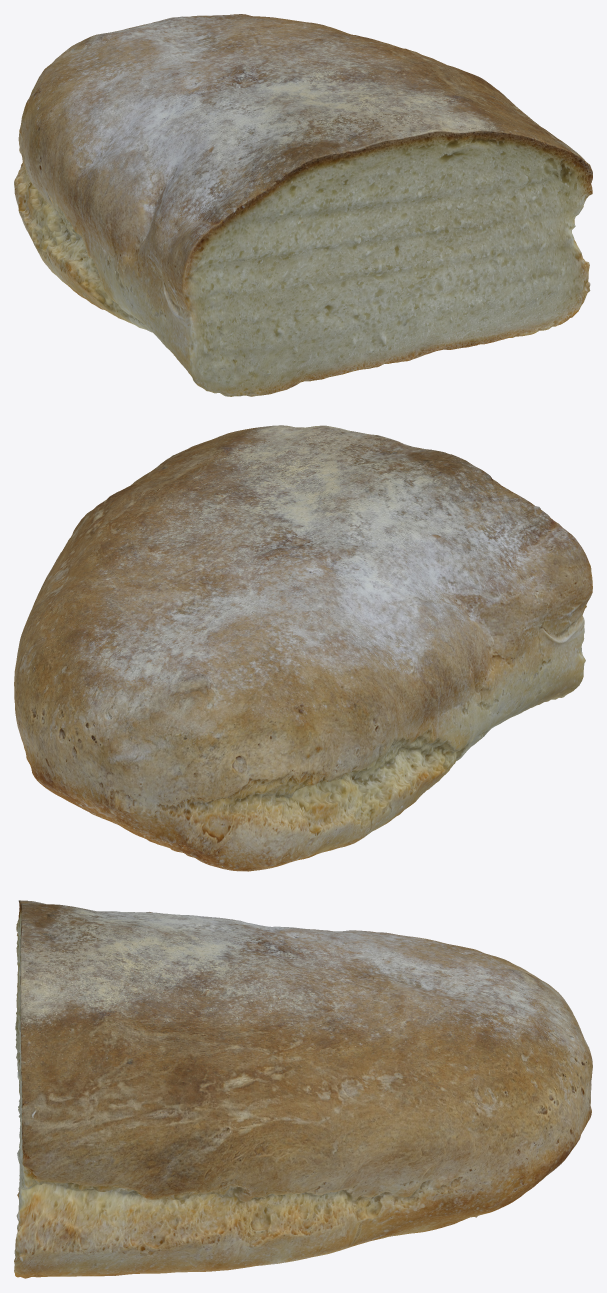
The model's file is rustic_bread.glb.
The picture shows the model from 3 angles, top to bottom: view 1: azimuth 30°, elevation 25°; view 2: azimuth 150°, elevation 25°; view 3: azimuth 270°, elevation 25°; orthographic projection. The views are drawn at different scales.
Visible parts, largest first — view 1: Model; view 2: Model; view 3: Model.
Boxes of the visible parts, left/top/right/bottom form: Model: left=14, top=14, right=592, bottom=396; Model: left=14, top=425, right=592, bottom=871; Model: left=14, top=900, right=592, bottom=1278.
Bounding box in the file's own units: 7.76 × 4.17 × 8.72.
2 materials, 2 textured.
